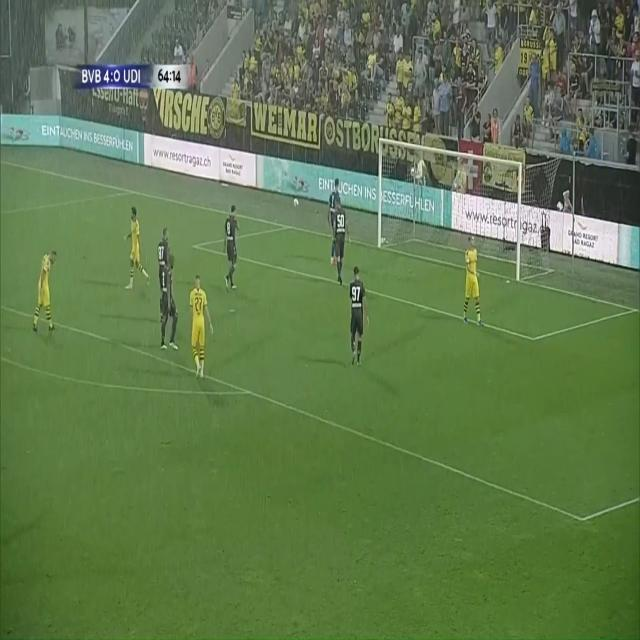ball: (290, 194, 302, 217)
goalkeeper: (324, 174, 339, 241)
player: (463, 227, 491, 351), (124, 204, 158, 306), (187, 267, 214, 387), (344, 260, 370, 372), (216, 207, 245, 293), (158, 257, 181, 356), (35, 248, 59, 340), (330, 203, 350, 287), (154, 223, 171, 292)
